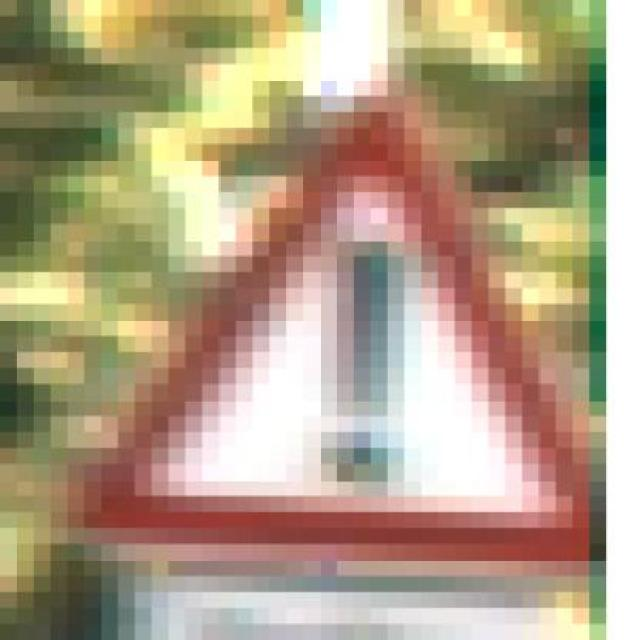Attention Please-: (84, 111, 624, 608)
